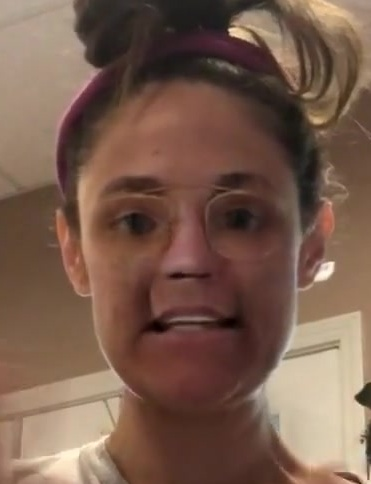n_f: (157, 191, 223, 289)
